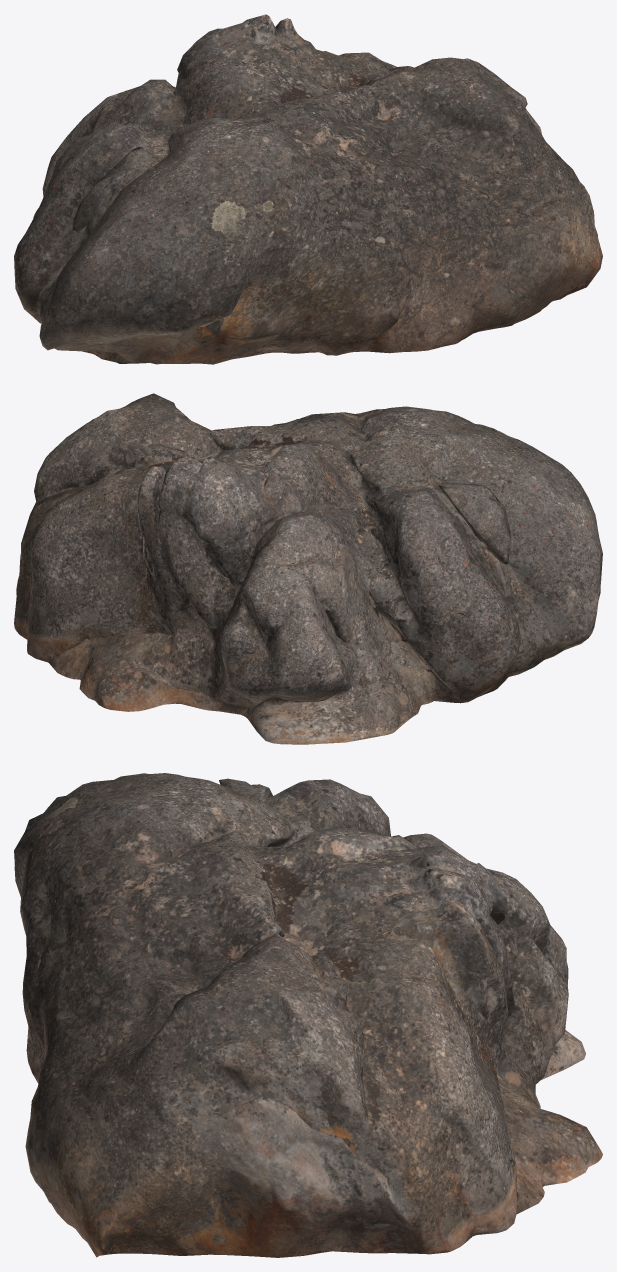
Rendered from SM_yewicgr_tier_2.gltf.
The picture shows the model from 3 angles, top to bottom: view 1: azimuth 30°, elevation 25°; view 2: azimuth 150°, elevation 25°; view 3: azimuth 270°, elevation 25°; orthographic projection. The views are drawn at different scales.
Parts seen in each view (by area): view 1: yewicgr_LOD2_TIER2_000; view 2: yewicgr_LOD2_TIER2_000; view 3: yewicgr_LOD2_TIER2_000.
Part boxes in pixels (x1,y1,x2,y2): yewicgr_LOD2_TIER2_000: (14, 14, 602, 364); yewicgr_LOD2_TIER2_000: (14, 393, 602, 744); yewicgr_LOD2_TIER2_000: (14, 773, 602, 1257).
Size of the model in its own units: 1.51 by 0.5999 by 1.15.
Materials: 1 (1 with a texture image).
